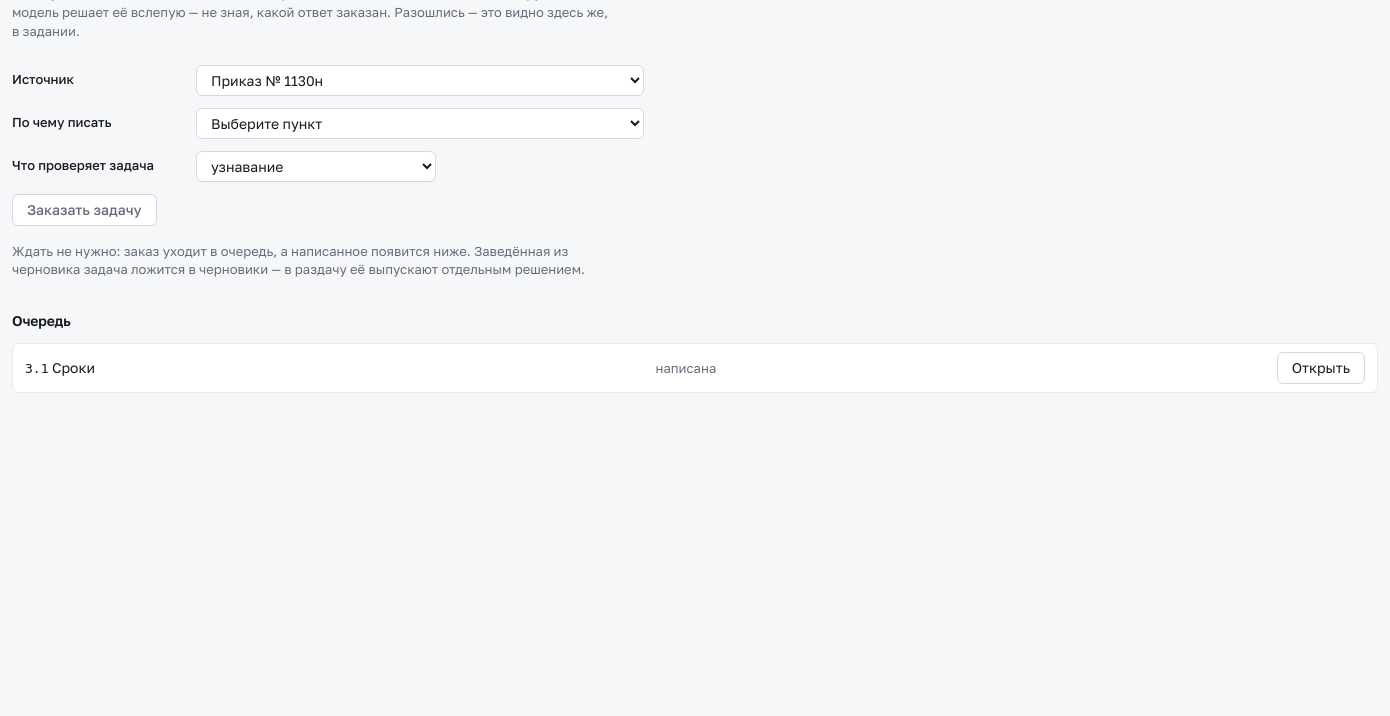
Test: слепая сверка и повтор › согласие сверки не выглядит тревогой
The image size is (1390, 716).
Step 1. Click the button "Открыть" → (1321, 368), box [1277,352,1365,384]
(page scrolled)
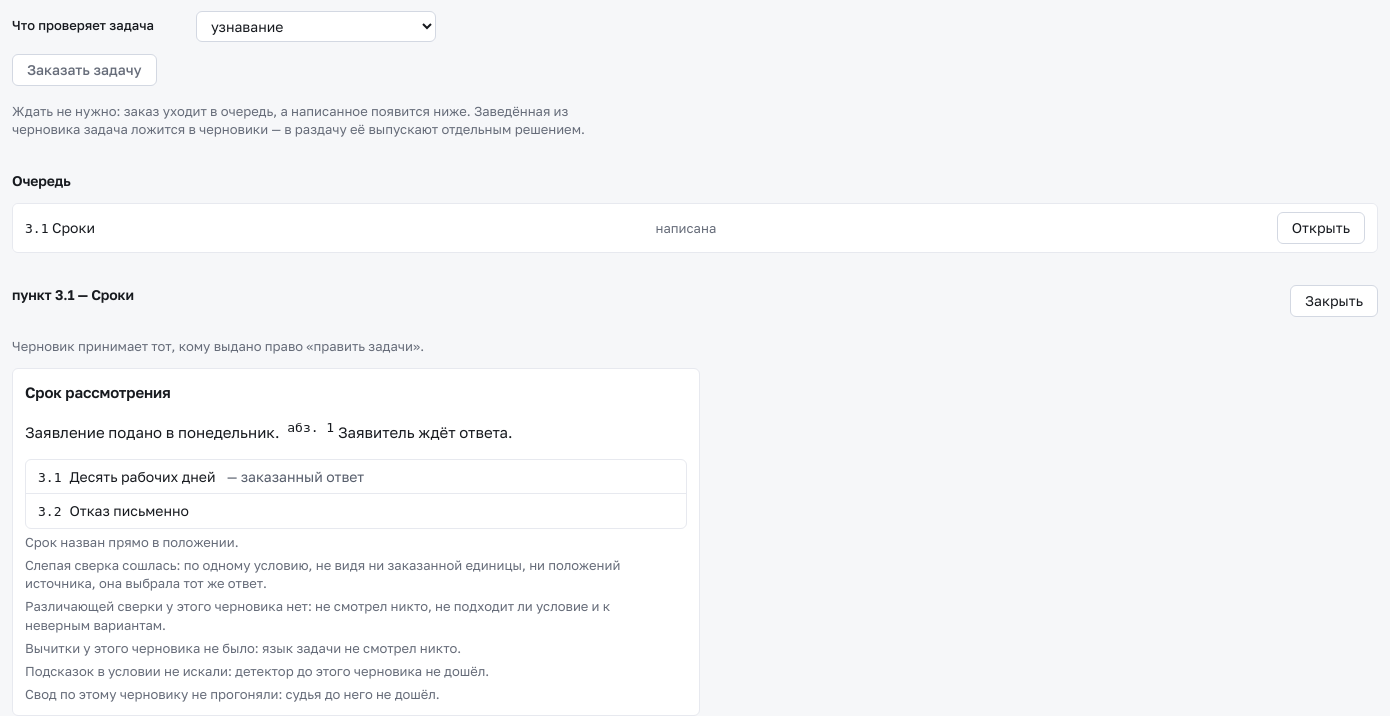
Now the text "Слепая сверка сошлась" is shown, box [25,556,624,591]
